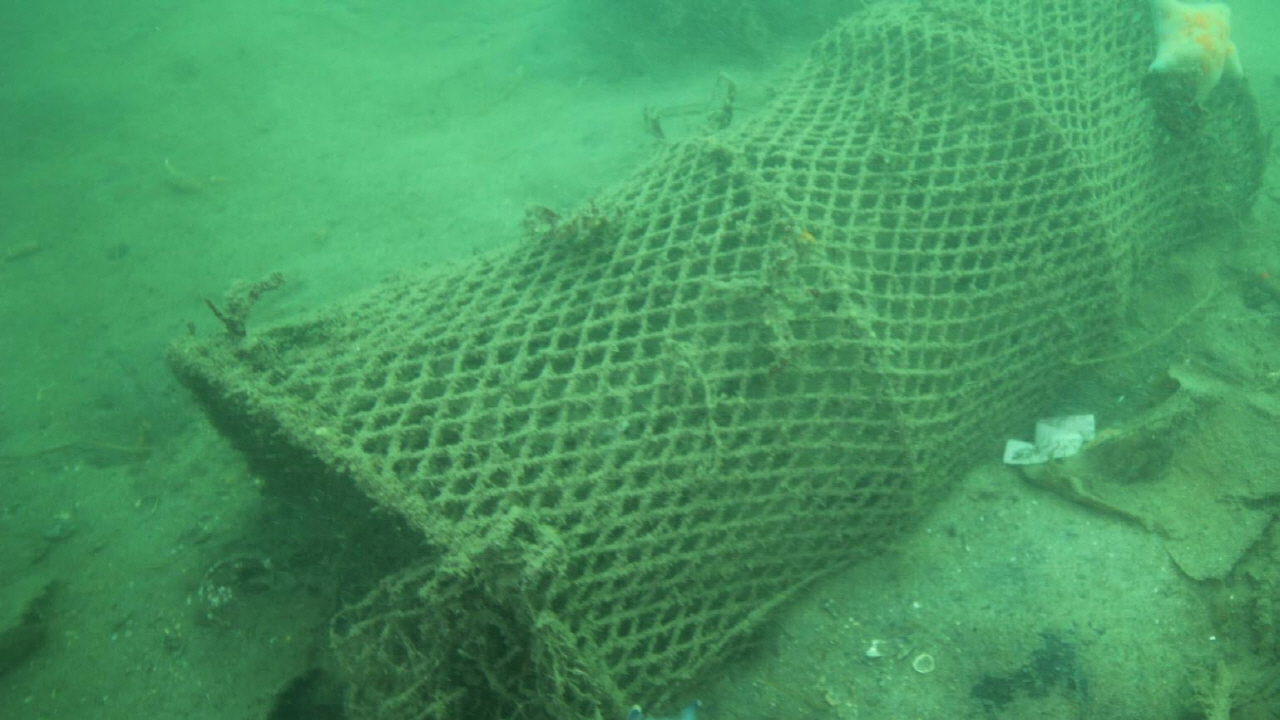spring fish trap: (166, 0, 1268, 717)
